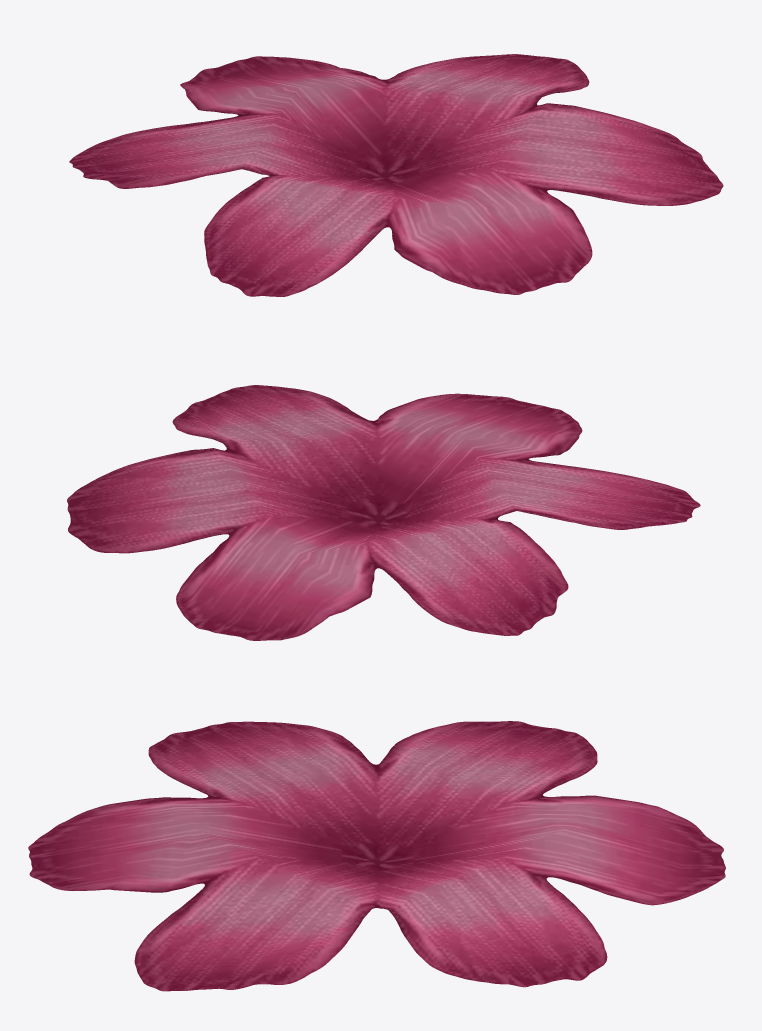
File: flower_d.glb
3 renders of one model, top to bottom at view 1: azimuth 30°, elevation 25°; view 2: azimuth 150°, elevation 25°; view 3: azimuth 270°, elevation 25°, orthographic. The views are drawn at different scales.
Visible parts, largest first — view 1: Flower05; view 2: Flower05; view 3: Flower05.
Boxes of the visible parts, box(x1,y1,x2,y2) form: Flower05: box(69, 54, 723, 296); Flower05: box(67, 385, 700, 640); Flower05: box(28, 721, 725, 991).
Bounding box in the file's own units: 0.6029 × 0.0375 × 0.6029.
1 material, 1 textured.
